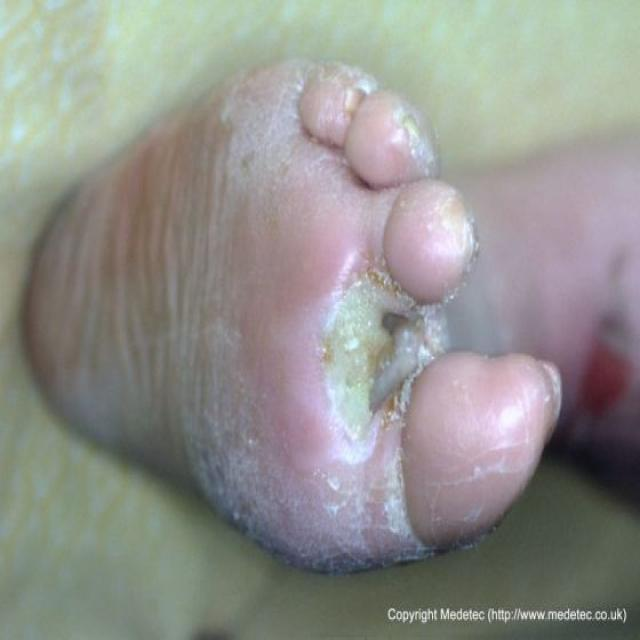wound: (318, 264, 446, 445)
